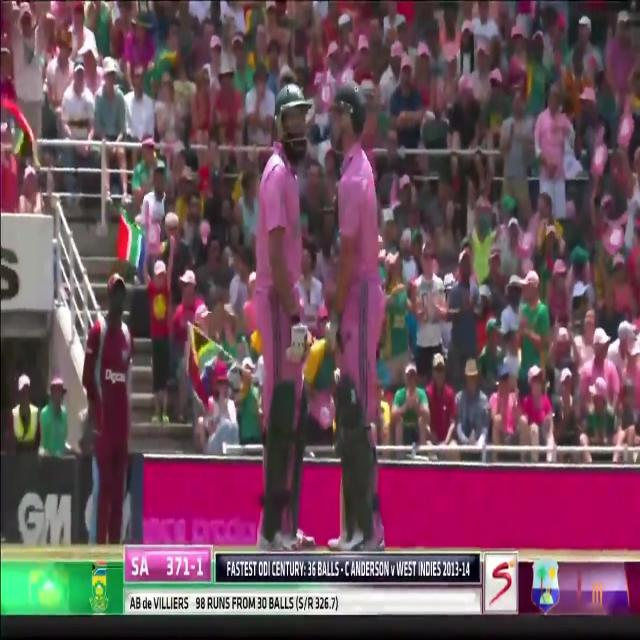Ball: (311, 82, 409, 556), (235, 88, 331, 552)
